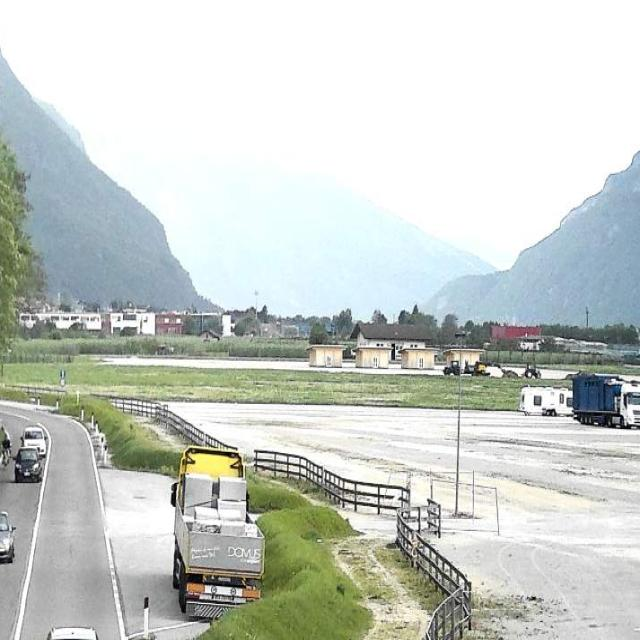car: (35, 625, 109, 640), (13, 447, 42, 483), (0, 508, 15, 564), (20, 427, 47, 454)
van: (172, 443, 266, 619), (572, 374, 640, 429)
